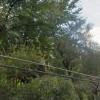Tree: (7, 5, 100, 99)
